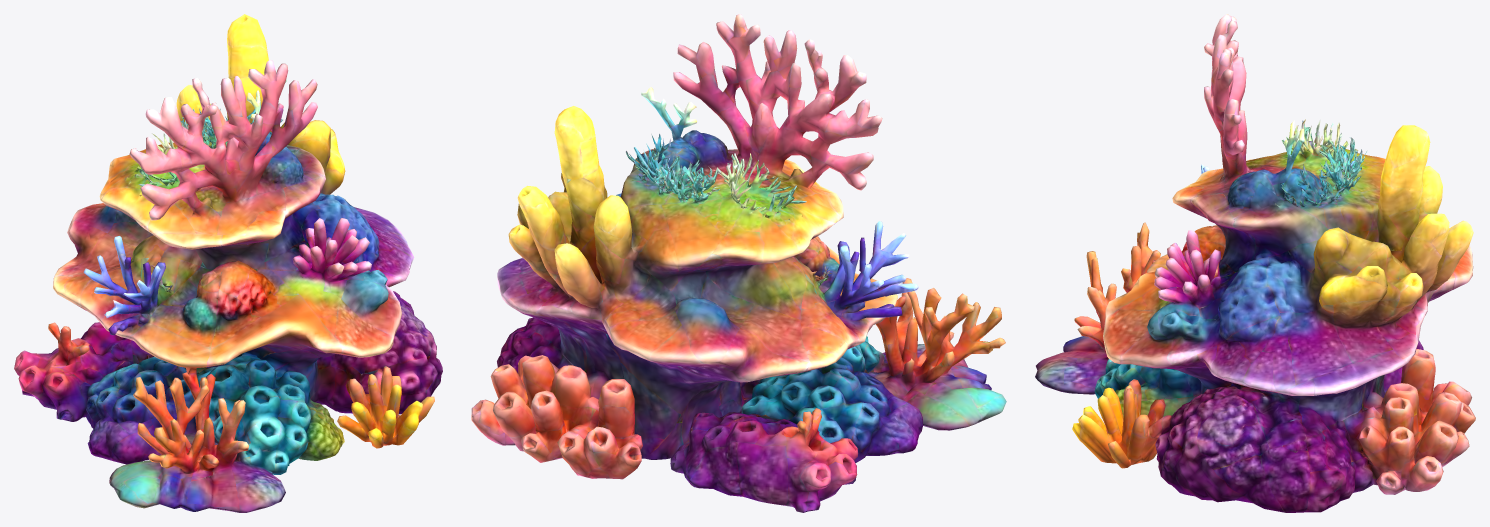
3 views of the same model, side by side, from view 1: azimuth 30°, elevation 25°; view 2: azimuth 150°, elevation 25°; view 3: azimuth 270°, elevation 25° (orthographic). The views are drawn at different scales.
Bounding box in the file's own units: 1.9 × 1.72 × 1.84.
1 material, 1 textured.
